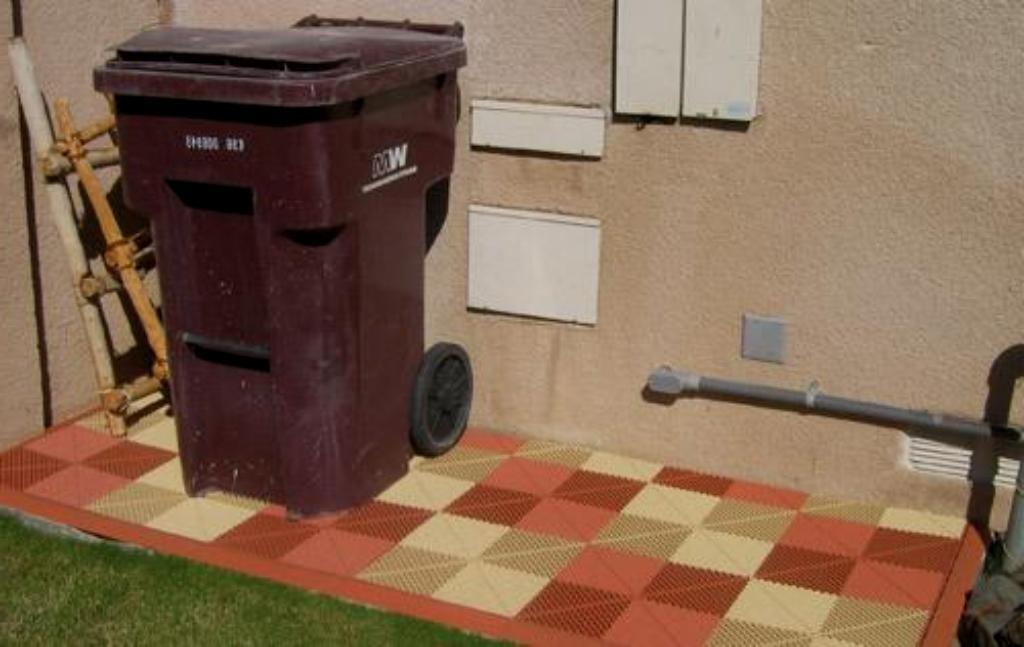dustbin: (91, 15, 477, 520)
